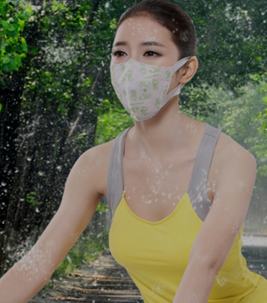face_mask: (109, 14, 178, 117)
